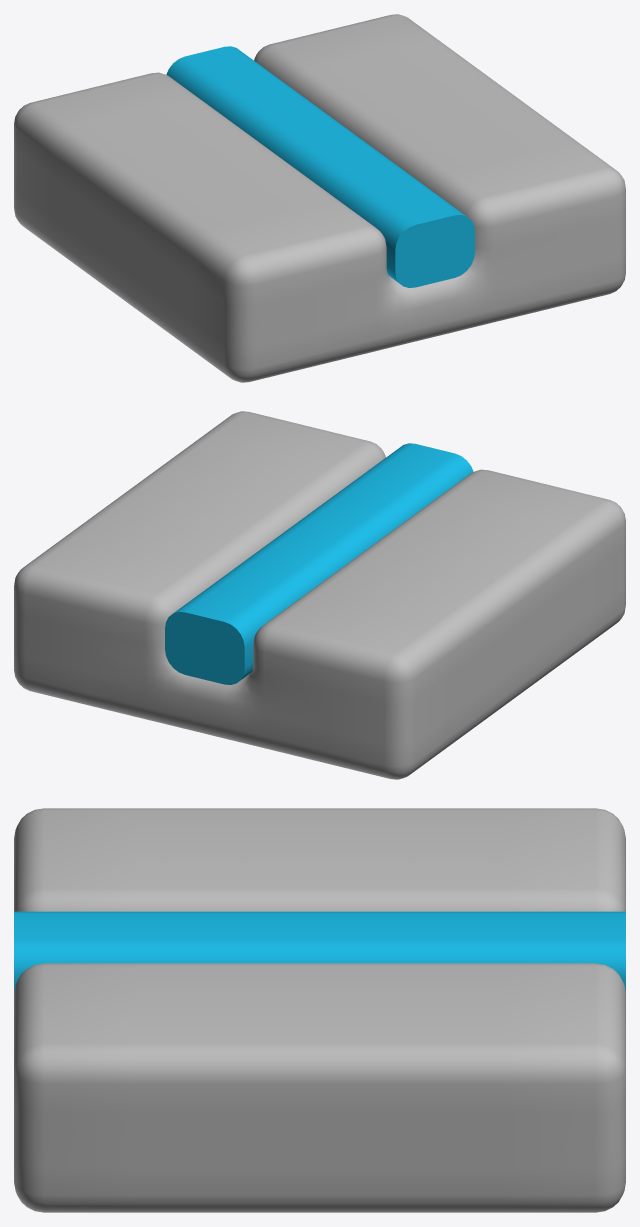
Rendered from Piso 1.fbx.
The picture shows the model from 3 angles, top to bottom: view 1: azimuth 30°, elevation 25°; view 2: azimuth 150°, elevation 25°; view 3: azimuth 270°, elevation 25°; orthographic projection. The views are drawn at different scales.
Parts seen in each view (by area): view 1: Piso 1; view 2: Piso 1; view 3: Piso 1.
Boxes of the visible parts, left/top/right/bottom form: Piso 1: left=14, top=14, right=625, bottom=382; Piso 1: left=14, top=411, right=625, bottom=779; Piso 1: left=14, top=808, right=625, bottom=1212.
Size of the model in its own units: 200 by 60 by 200.
